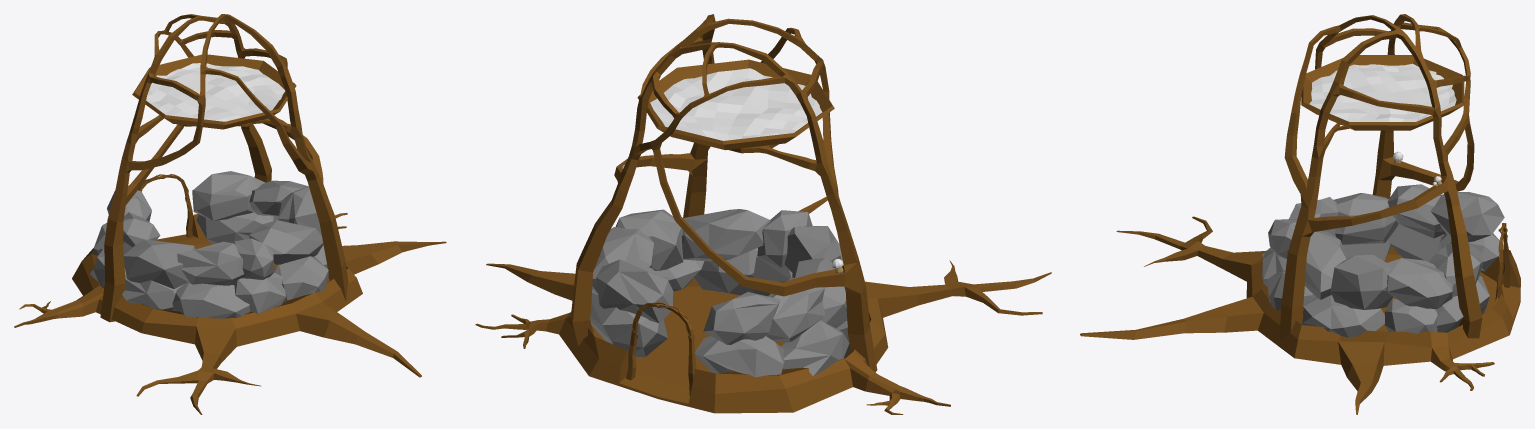
File: weaversHutWATER.fbx
3 views of the same model, side by side, from view 1: azimuth 30°, elevation 25°; view 2: azimuth 150°, elevation 25°; view 3: azimuth 270°, elevation 25° (orthographic). The views are drawn at different scales.
Visible parts, largest first — view 1: tree_bottom, Cube.002, water1, rock.014, woodPLATE1, rock.010, rock.011, rock.003, rock.013, rock.001, rock.009, rock.005 (+7 smaller); view 2: tree_bottom, Cube.002, water1, woodPLATE1, rock.014, rock.013, rock.017, rock.008, rock.009, rock.002, rock.012, rock.018 (+8 smaller); view 3: Cube.002, tree_bottom, water1, woodPLATE1, rock.012, rock.016, rock.010, rock.007, rock.017, rock.013, rock.018, rock.006 (+10 smaller).
Boxes of the visible parts, x1,y1,x2,y2 form: tree_bottom: [14, 213, 446, 414]; Cube.002: [100, 14, 348, 322]; water1: [146, 63, 285, 121]; rock.014: [192, 171, 265, 220]; woodPLATE1: [132, 54, 296, 129]; rock.010: [123, 239, 195, 288]; rock.011: [177, 241, 243, 285]; rock.003: [172, 282, 249, 318]; rock.013: [249, 220, 323, 264]; rock.001: [274, 256, 328, 300]; rock.009: [196, 212, 273, 244]; rock.005: [234, 272, 286, 314]; tree_bottom: [475, 196, 1051, 414]; Cube.002: [571, 14, 877, 371]; water1: [650, 68, 822, 140]; woodPLATE1: [637, 59, 834, 150]; rock.014: [596, 259, 673, 323]; rock.013: [681, 209, 770, 261]; rock.017: [703, 292, 780, 344]; rock.008: [695, 335, 784, 377]; rock.009: [590, 289, 667, 356]; rock.002: [781, 320, 848, 376]; rock.012: [615, 209, 683, 270]; rock.018: [766, 277, 825, 342]; Cube.002: [1279, 14, 1482, 341]; tree_bottom: [1080, 216, 1520, 414]; water1: [1309, 63, 1456, 121]; woodPLATE1: [1301, 55, 1464, 130]; rock.012: [1330, 255, 1393, 309]; rock.016: [1386, 258, 1452, 308]; rock.010: [1333, 193, 1398, 244]; rock.007: [1302, 295, 1384, 337]; rock.017: [1431, 192, 1504, 242]; rock.013: [1287, 231, 1348, 299]; rock.018: [1387, 184, 1445, 238]; rock.006: [1384, 299, 1437, 333].
Size of the model in its own units: 324 by 205 by 284.
